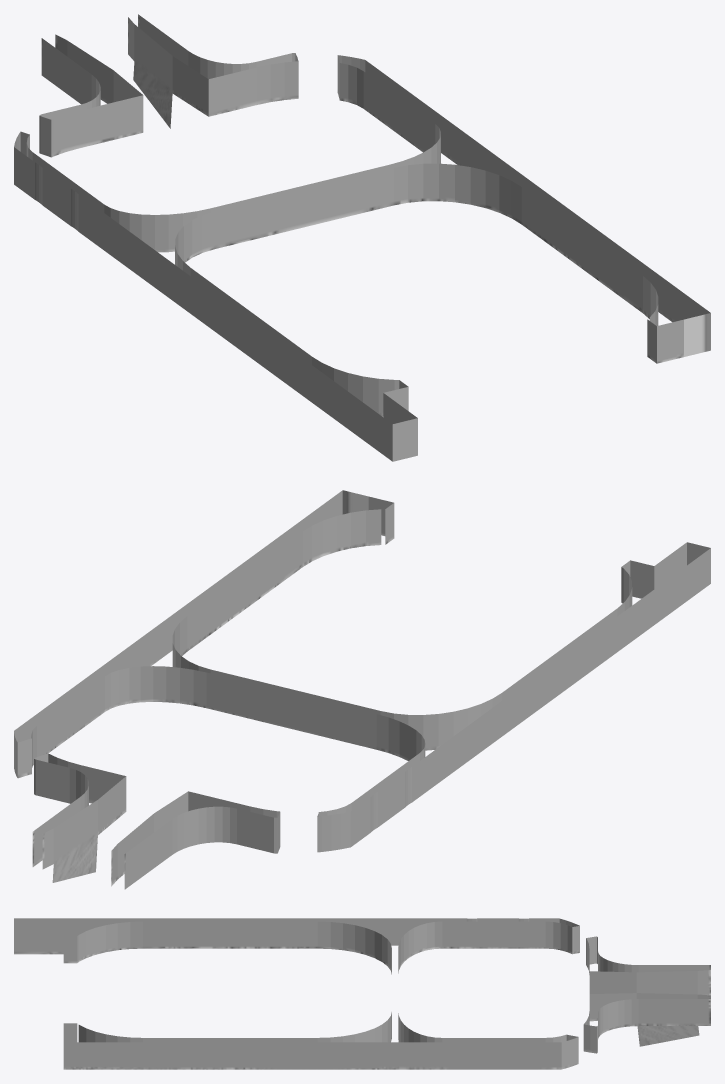
The model's file is Collider.fbx.
The picture shows the model from 3 angles, top to bottom: view 1: azimuth 30°, elevation 25°; view 2: azimuth 150°, elevation 25°; view 3: azimuth 270°, elevation 25°; orthographic projection. The views are drawn at different scales.
Visible parts, largest first — view 1: Map_3.001; view 2: Map_3.001; view 3: Map_3.001.
Boxes of the visible parts, left/top/right/bottom form: Map_3.001: left=14, top=14, right=710, bottom=461; Map_3.001: left=14, top=490, right=710, bottom=889; Map_3.001: left=14, top=918, right=710, bottom=1069.
Size of the model in its own units: 97.5 by 19.71 by 232.
